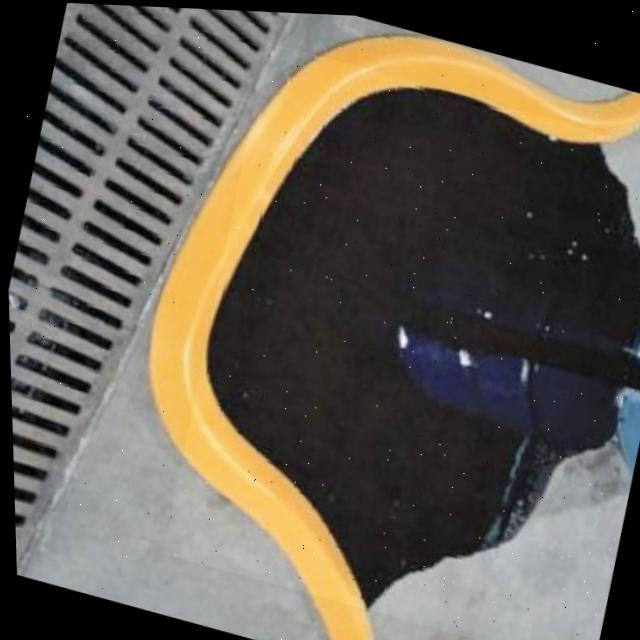spillage: (201, 81, 640, 605)
